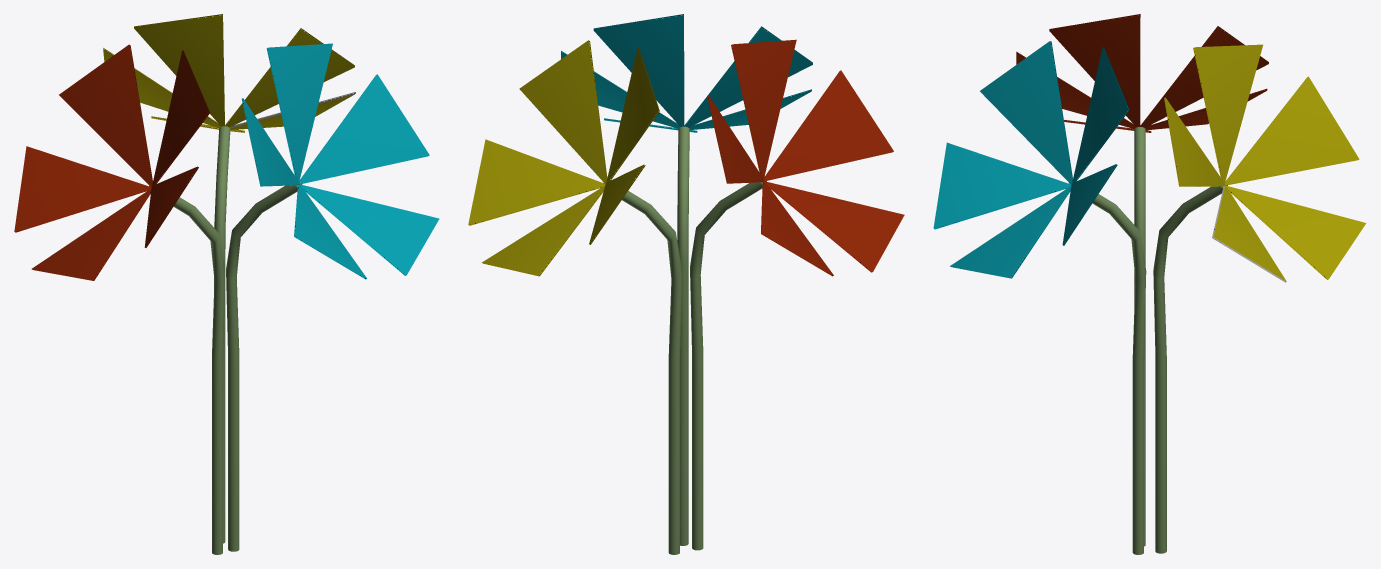
Rendered from Grupo flores 1.fbx.
3 renders of one model, left to right at view 1: azimuth 30°, elevation 25°; view 2: azimuth 150°, elevation 25°; view 3: azimuth 270°, elevation 25°, orthographic.
Parts seen in each view (by area): view 1: grupo_flores_1; view 2: grupo_flores_1; view 3: grupo_flores_1.
Boxes of the visible parts, bbox=[...] form: grupo_flores_1: bbox=[14, 14, 439, 554]; grupo_flores_1: bbox=[468, 14, 904, 554]; grupo_flores_1: bbox=[933, 14, 1366, 554].
Bounding box in the file's own units: 1.49 × 2.04 × 1.56.
